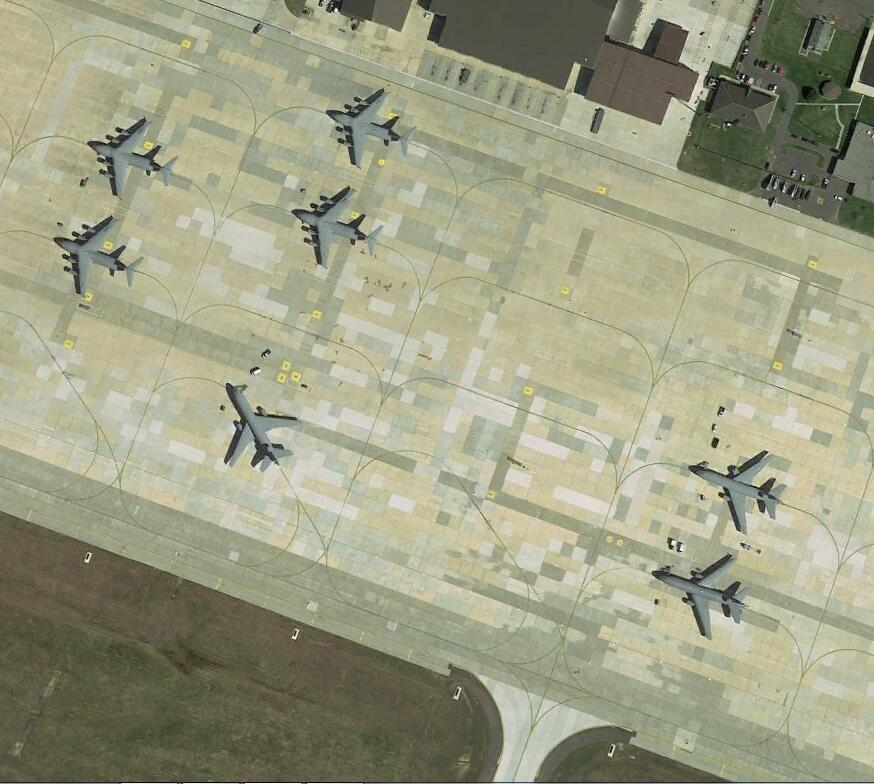A18: (689, 448, 789, 536), (654, 556, 754, 640), (223, 380, 303, 476)
A3: (55, 214, 145, 300), (293, 186, 384, 271), (89, 119, 180, 200), (328, 87, 416, 170)
